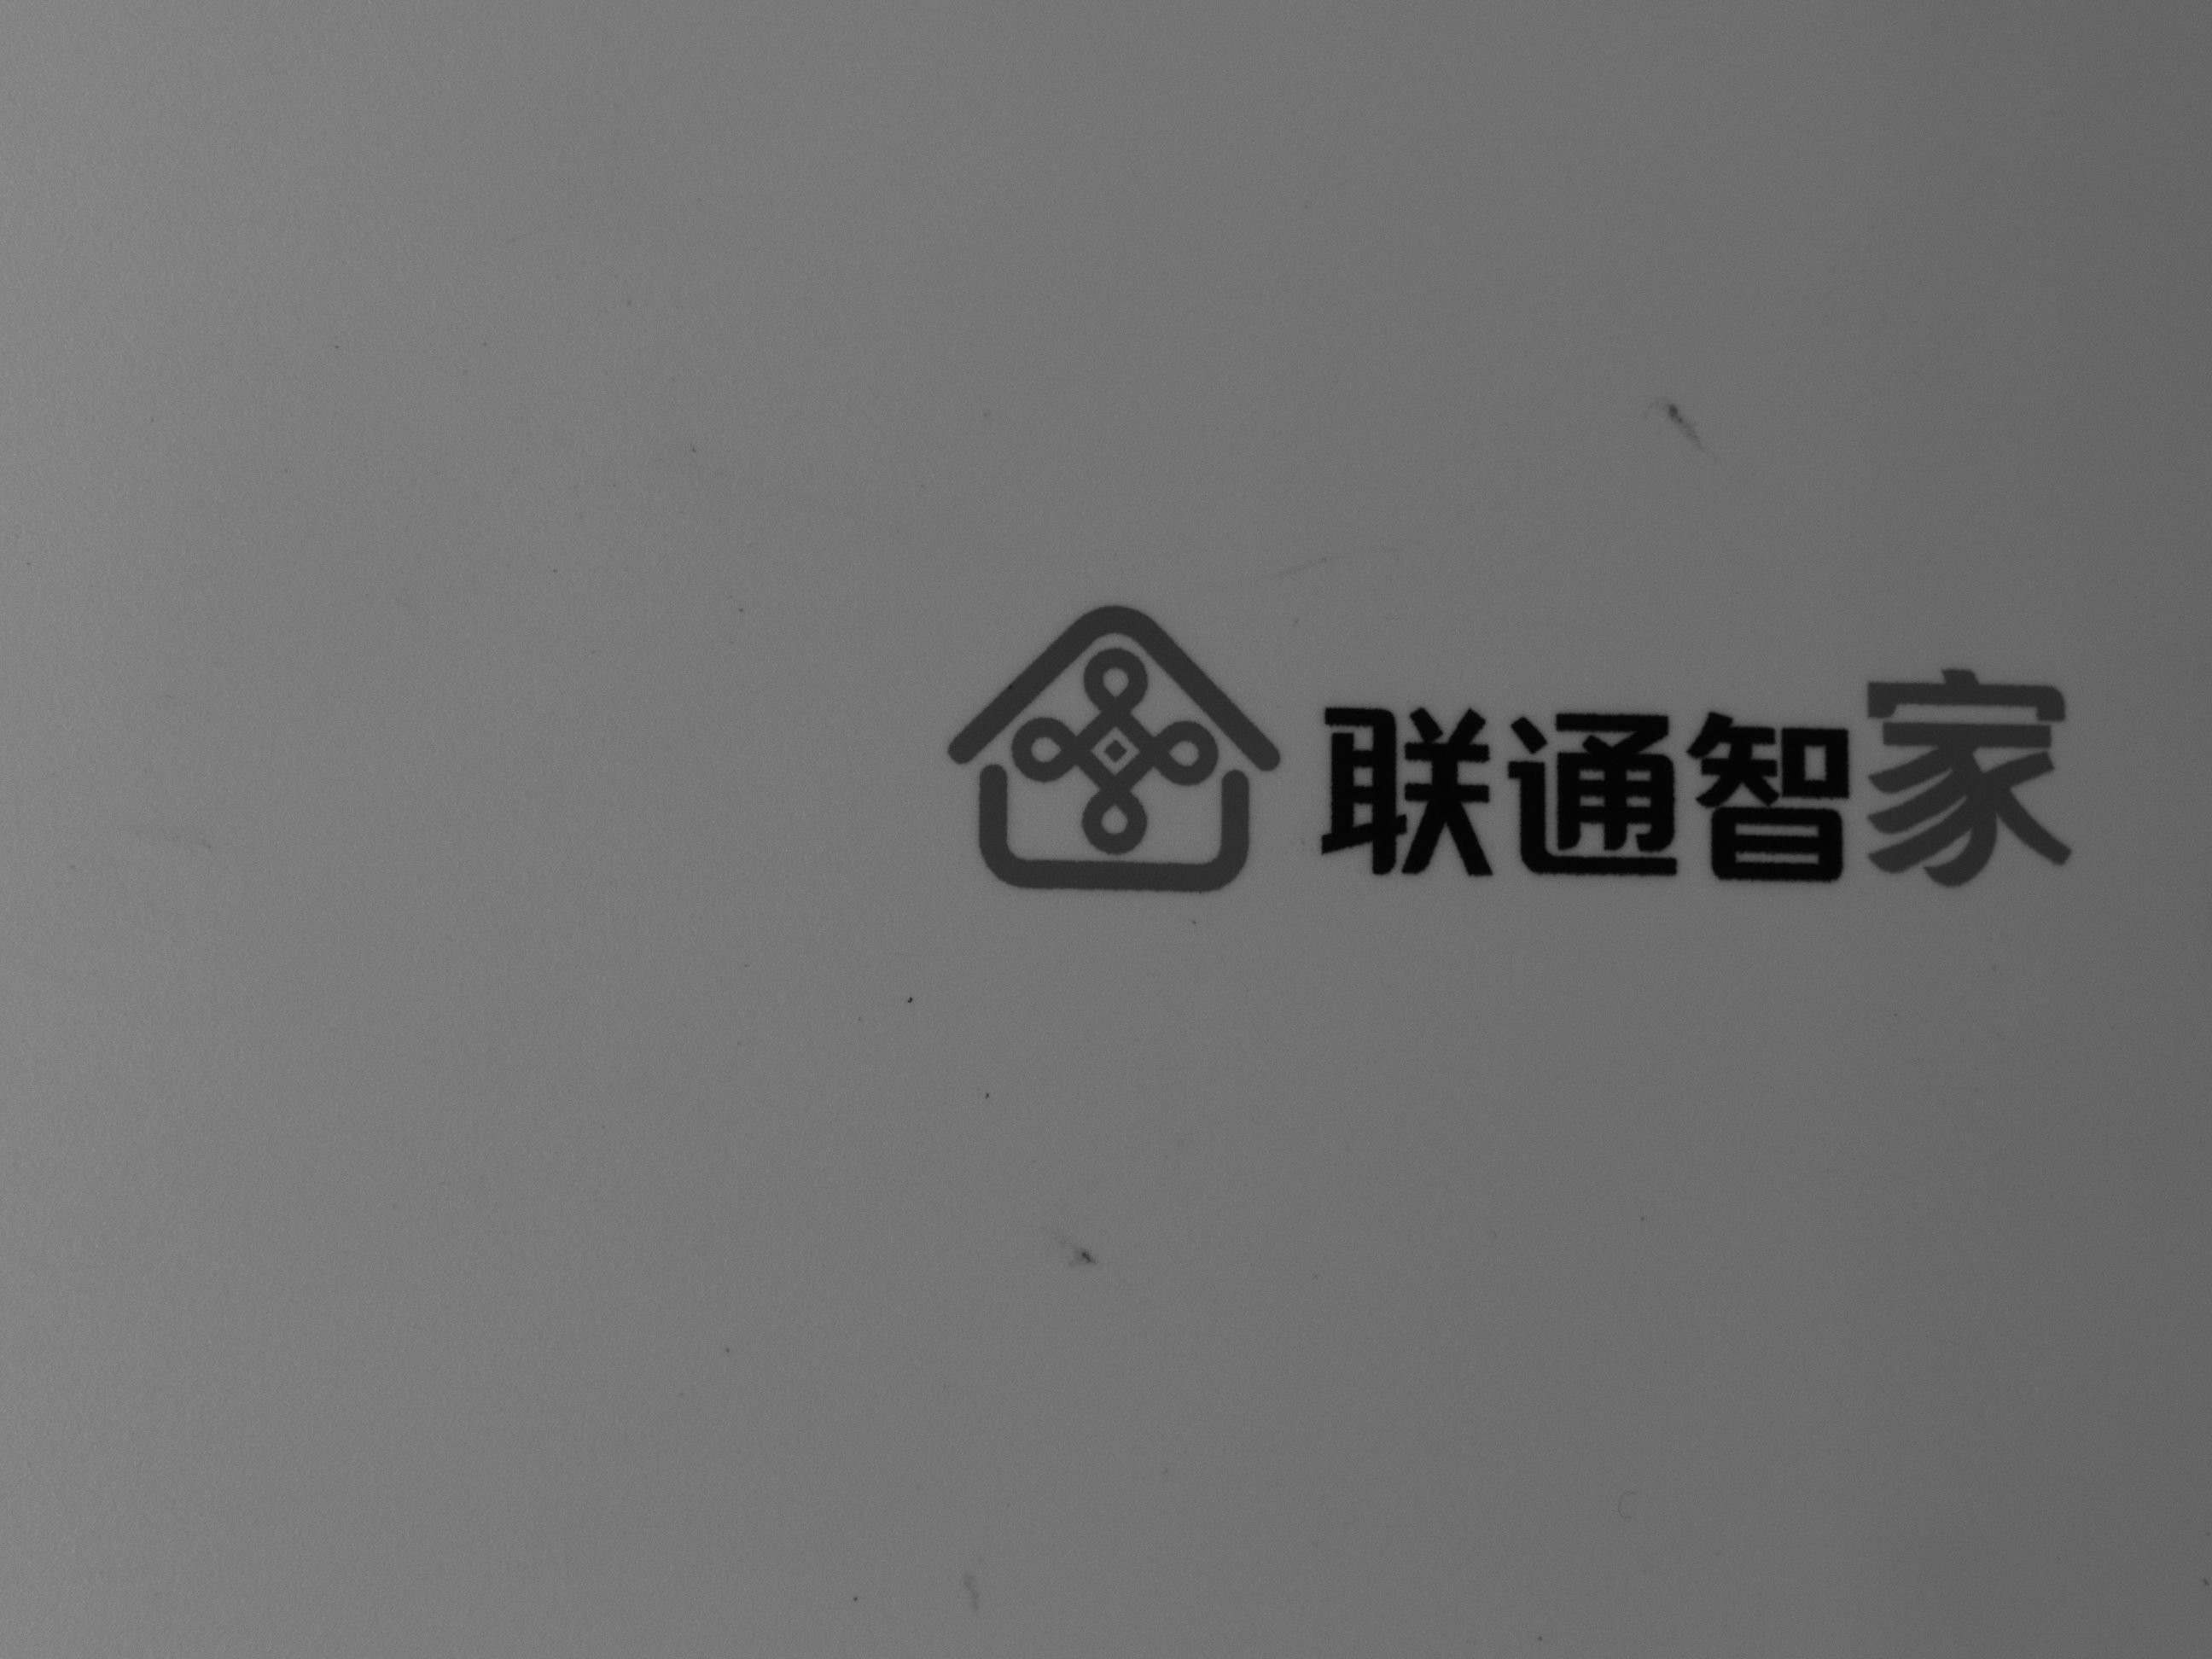BY_F6610Unicome: (904, 566, 2106, 903)
